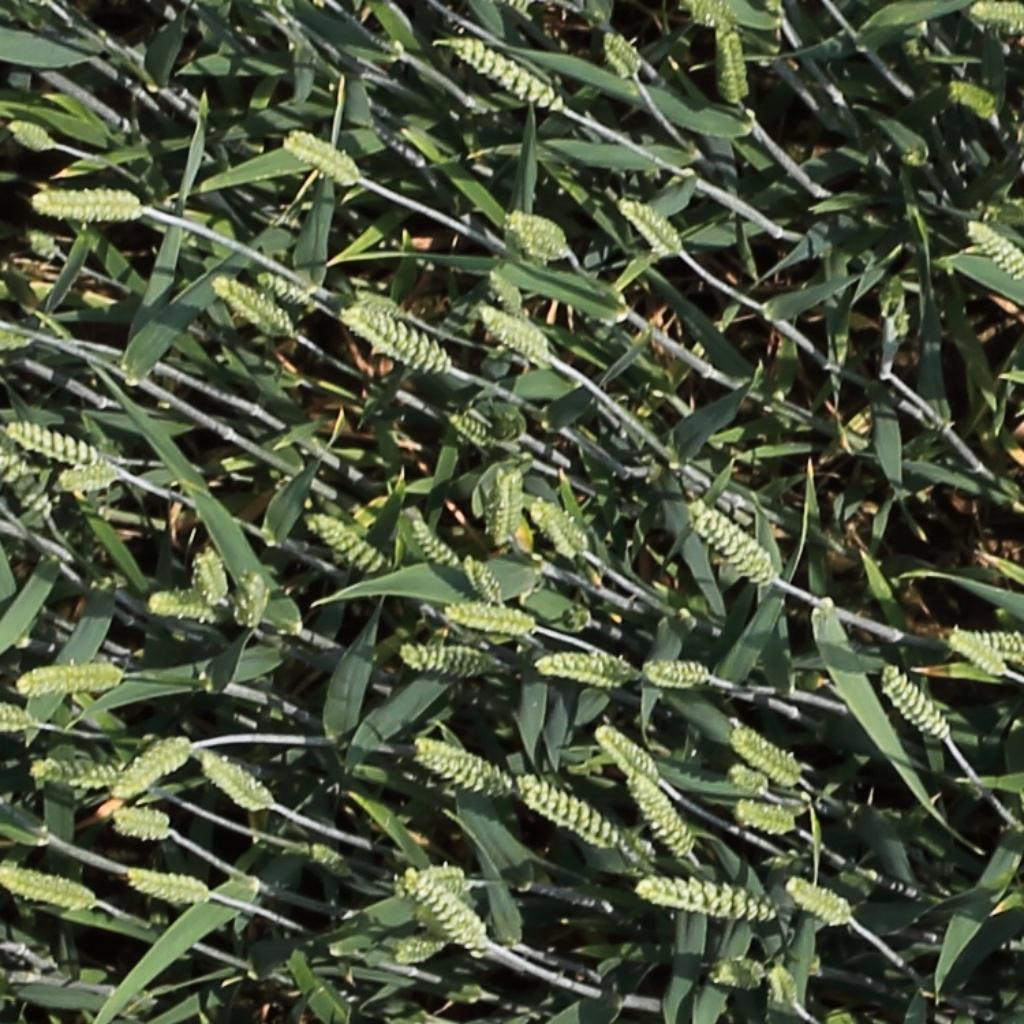0-0: (514, 776, 633, 853), (450, 35, 567, 113), (623, 767, 700, 862), (342, 304, 449, 372), (689, 502, 776, 585), (0, 390, 51, 524), (400, 871, 487, 948), (882, 664, 957, 745), (31, 175, 145, 227), (415, 741, 513, 798), (636, 883, 776, 920), (211, 275, 293, 338), (308, 512, 386, 574), (19, 652, 128, 694), (116, 738, 192, 797), (197, 752, 271, 812), (536, 640, 633, 685), (529, 494, 593, 562), (5, 421, 106, 464), (618, 195, 686, 256), (595, 726, 663, 787), (405, 509, 466, 576), (285, 129, 363, 181), (733, 729, 804, 786), (965, 215, 1024, 282), (477, 307, 552, 359), (0, 872, 96, 907), (460, 548, 510, 611), (484, 259, 531, 323), (786, 880, 854, 924), (642, 644, 714, 685), (505, 211, 570, 256), (31, 764, 127, 793), (944, 626, 1003, 673), (720, 23, 752, 109), (600, 25, 647, 83), (398, 643, 495, 671), (124, 872, 211, 902), (193, 540, 230, 610), (442, 606, 537, 633), (494, 462, 522, 550), (961, 627, 1024, 663), (237, 562, 266, 637), (255, 268, 314, 304), (148, 589, 223, 617), (734, 804, 802, 834), (447, 410, 499, 449), (767, 957, 802, 1014), (110, 812, 175, 842), (948, 79, 999, 113), (309, 846, 354, 882), (51, 468, 122, 490), (6, 116, 53, 146), (729, 765, 772, 797), (692, 1, 741, 27), (970, 2, 1024, 25), (393, 939, 447, 962), (712, 962, 765, 985), (23, 228, 61, 259), (0, 699, 34, 729), (0, 330, 25, 348)
